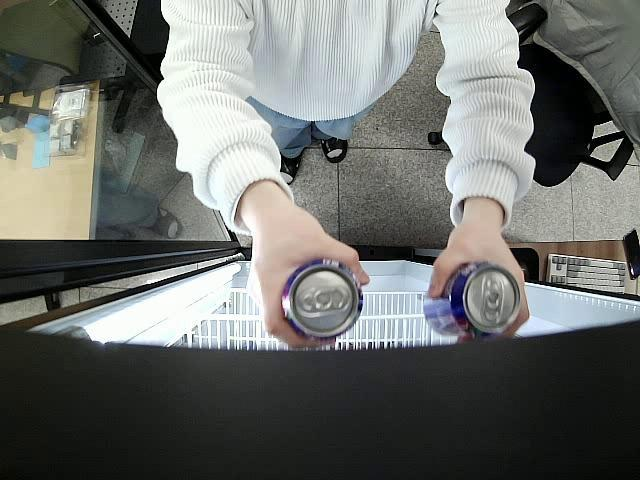14_welchsGrape: (420, 262, 520, 338), (281, 259, 364, 342)
